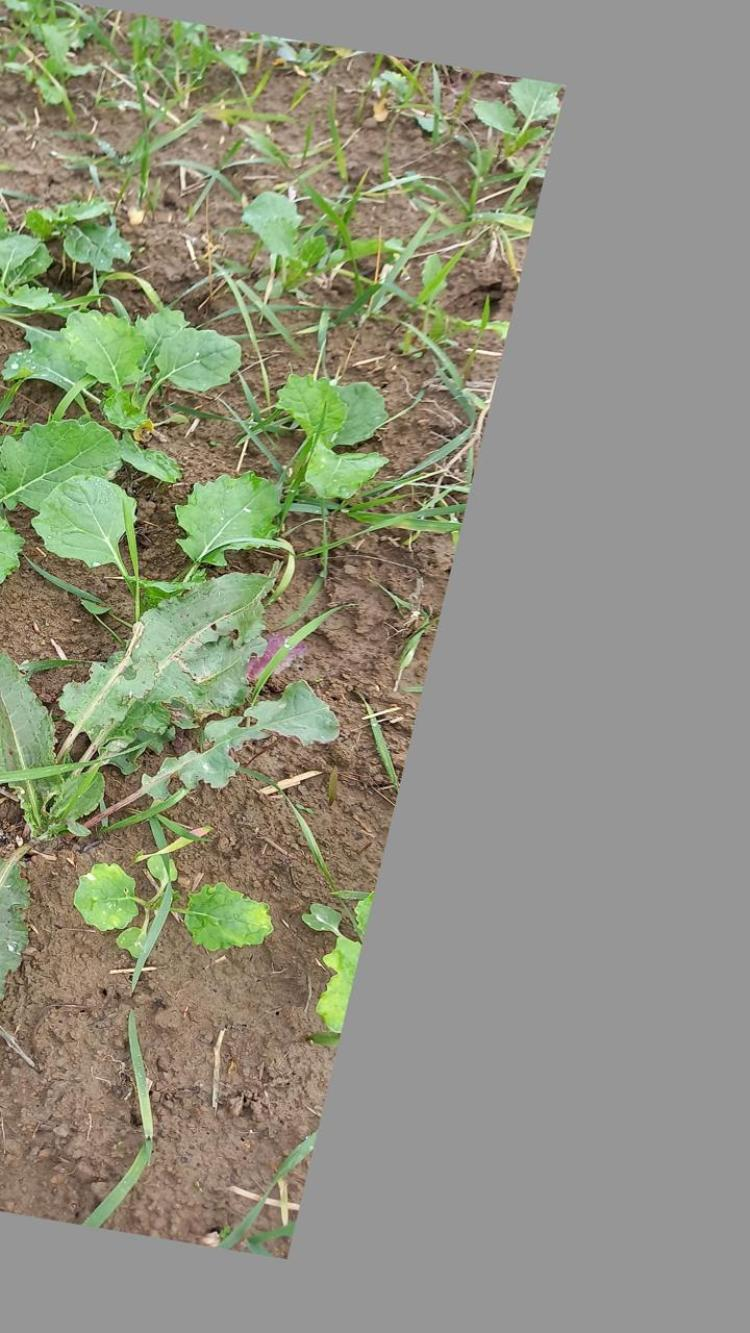zhavel: (0, 569, 346, 1004)
